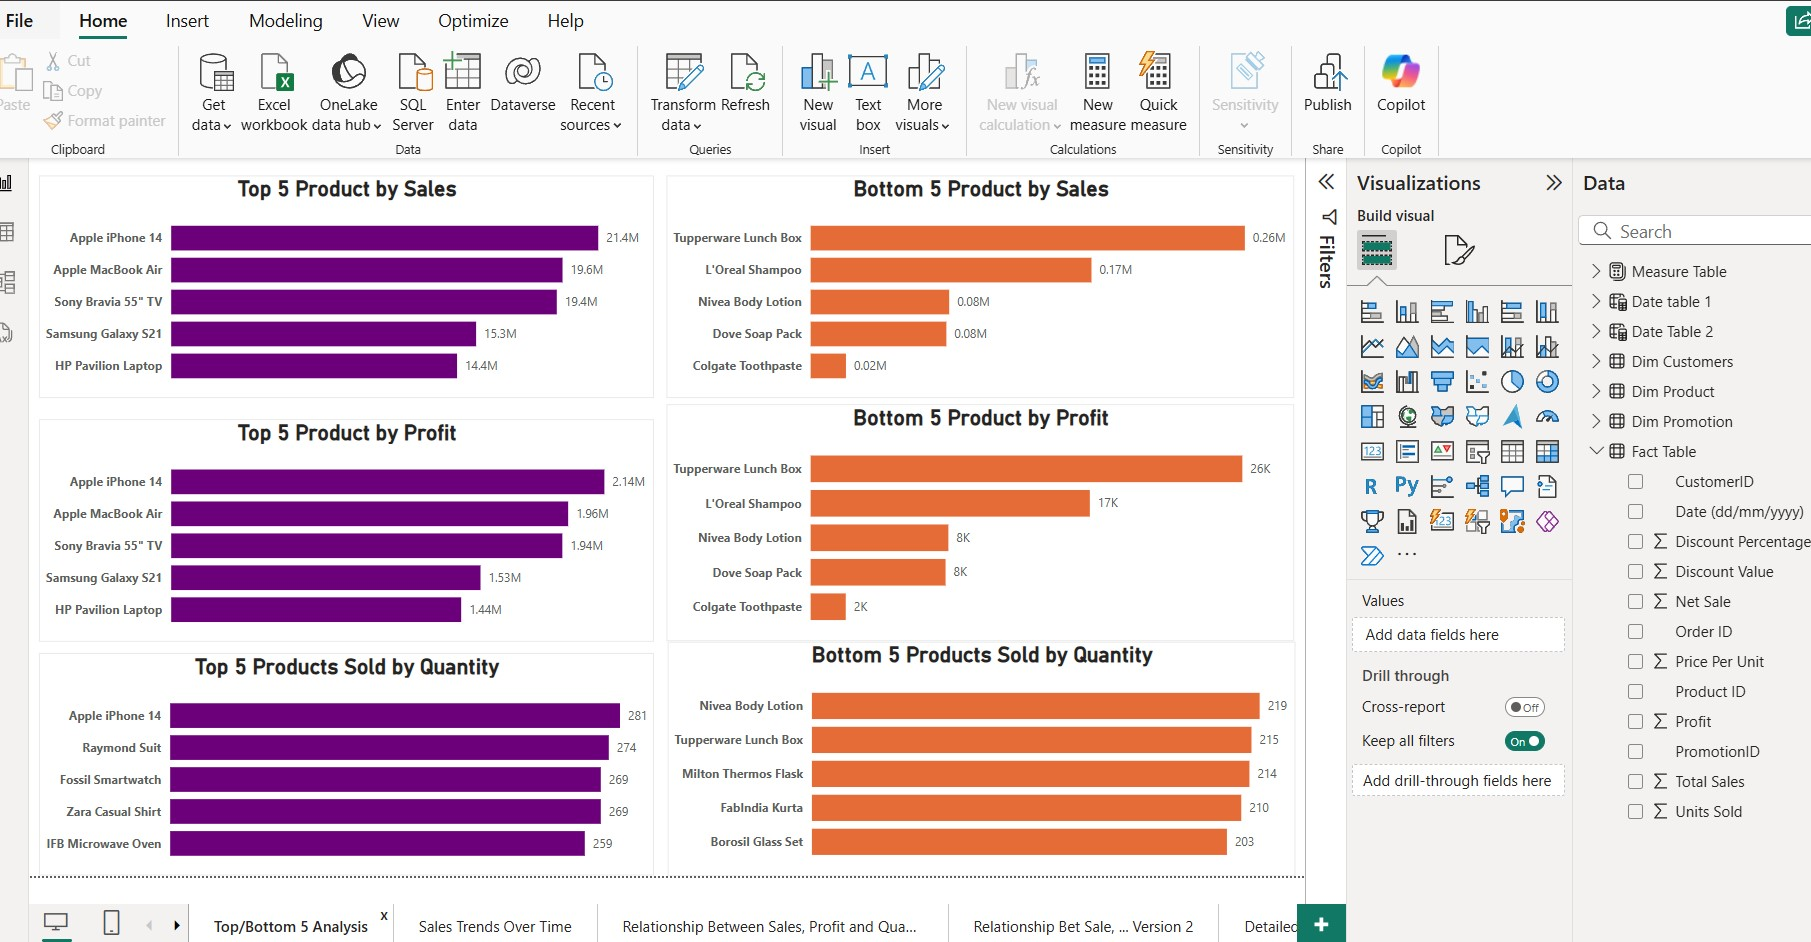

Layout of this report page (visuals, bound fields, positions):
{"tool":"powerbi","page":{"name":"Top/Bottom 5 Analysis","canvas":[1280,720],"ordinal":0},"visuals":[{"type":"barChart","title":"Top 5 Product by Sales","fields":{"Category":["Dim Product.Product Name"],"Y":["Sum(Fact Table.Net Sale)"]},"box":[9.9,17,616.8,223.5],"z":0},{"type":"barChart","title":"Bottom 5 Product by Sales","fields":{"Category":["Dim Product.Product Name"],"Y":["Sum(Fact Table.Net Sale)"]},"box":[639.4,17,629.5,223.5],"z":1000},{"type":"barChart","title":"Top 5 Product by Profit","fields":{"Category":["Dim Product.Product Name"],"Y":["Sum(Fact Table.Profit)"]},"box":[9.9,261.7,616.8,223.5],"z":2000},{"type":"barChart","title":"Top 5 Products Sold by Quantity","fields":{"Category":["Dim Product.Product Name"],"Y":["Sum(Fact Table.Units Sold)"]},"box":[9.9,496.6,616.8,223.5],"z":3000},{"type":"barChart","title":"Bottom 5 Product by Profit","fields":{"Category":["Dim Product.Product Name"],"Y":["Sum(Fact Table.Profit)"]},"box":[639.4,247.6,629.5,237.7],"z":4000},{"type":"barChart","title":"Bottom 5 Products Sold by Quantity","fields":{"Category":["Dim Product.Product Name"],"Y":["Sum(Fact Table.Units Sold)"]},"box":[640.9,485.2,629.5,234.8],"z":5000}]}

Visuals, with their boxes on the page's 1280x720 design canvas (x1, y1, x2, y2). These are canvas units, not pixel positions in the 1811x942 screenshot, which may show the page scaled, cropped or inside an application window:
"Top 5 Product by Sales" barChart: bbox(10, 17, 627, 240)
"Bottom 5 Product by Sales" barChart: bbox(639, 17, 1269, 240)
"Top 5 Product by Profit" barChart: bbox(10, 262, 627, 485)
"Top 5 Products Sold by Quantity" barChart: bbox(10, 497, 627, 720)
"Bottom 5 Product by Profit" barChart: bbox(639, 248, 1269, 485)
"Bottom 5 Products Sold by Quantity" barChart: bbox(641, 485, 1270, 720)
